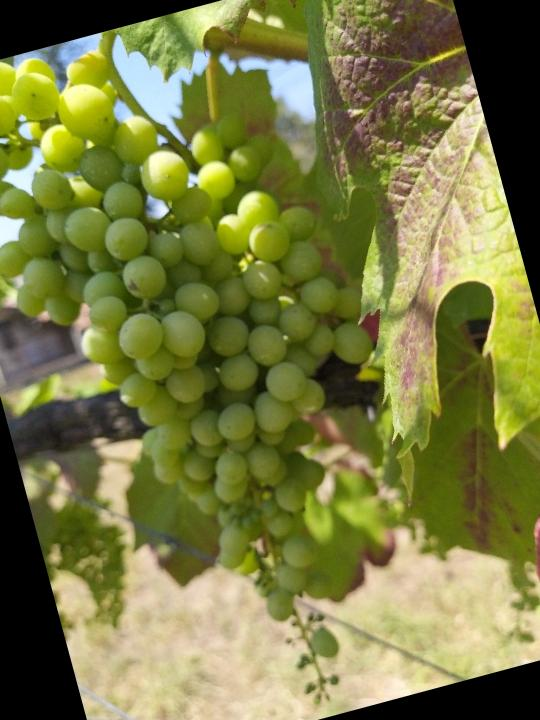grape: (0, 0, 458, 720)
